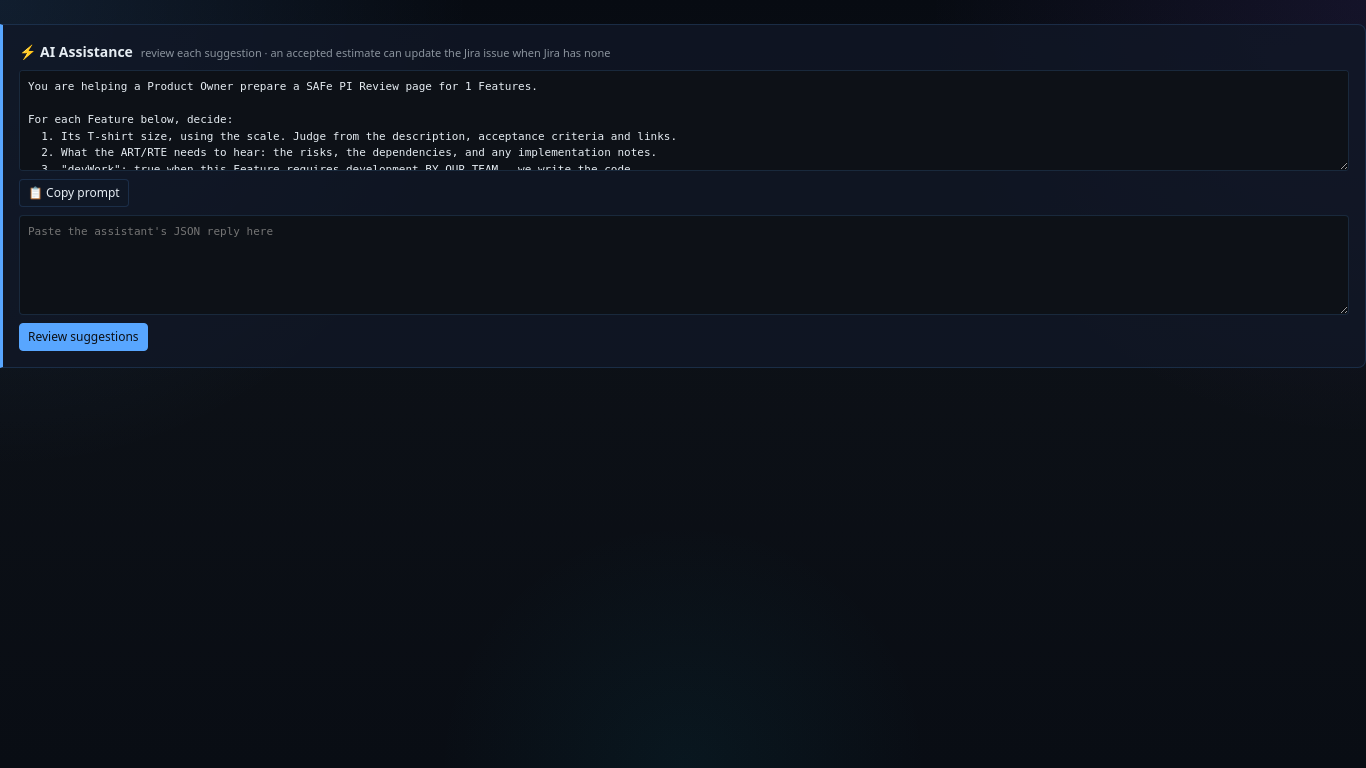
Test: PiReviewAiPanel — the two paths › surfaces a malformed reply as an error without corrupting anything
The image size is (1366, 768).
Type "I could not size these, sorry." into the text box with placeholder "Paste the assistant's JSON reply here". click: (684,265)
box: [19,214,1349,315]
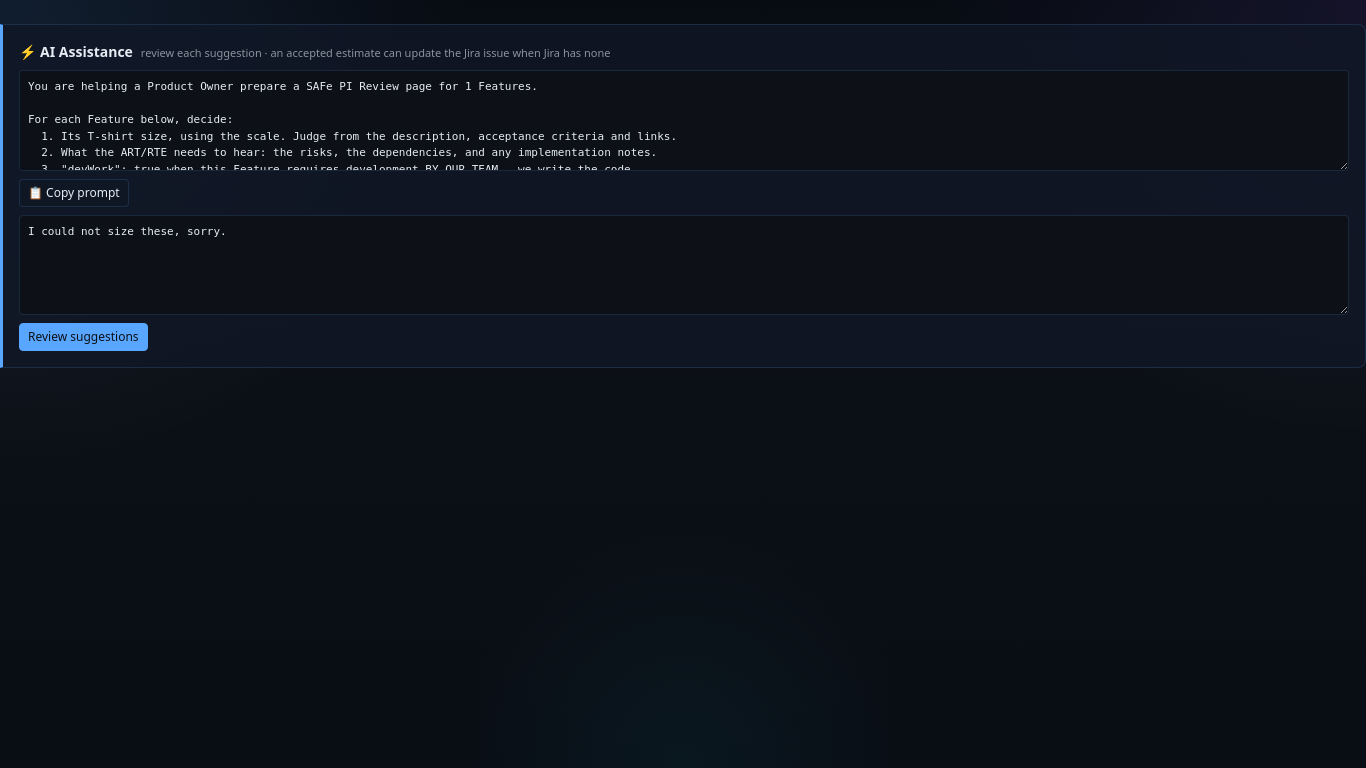
Click the button "Review suggestions". click: (83,337)
box: [19,323,148,351]
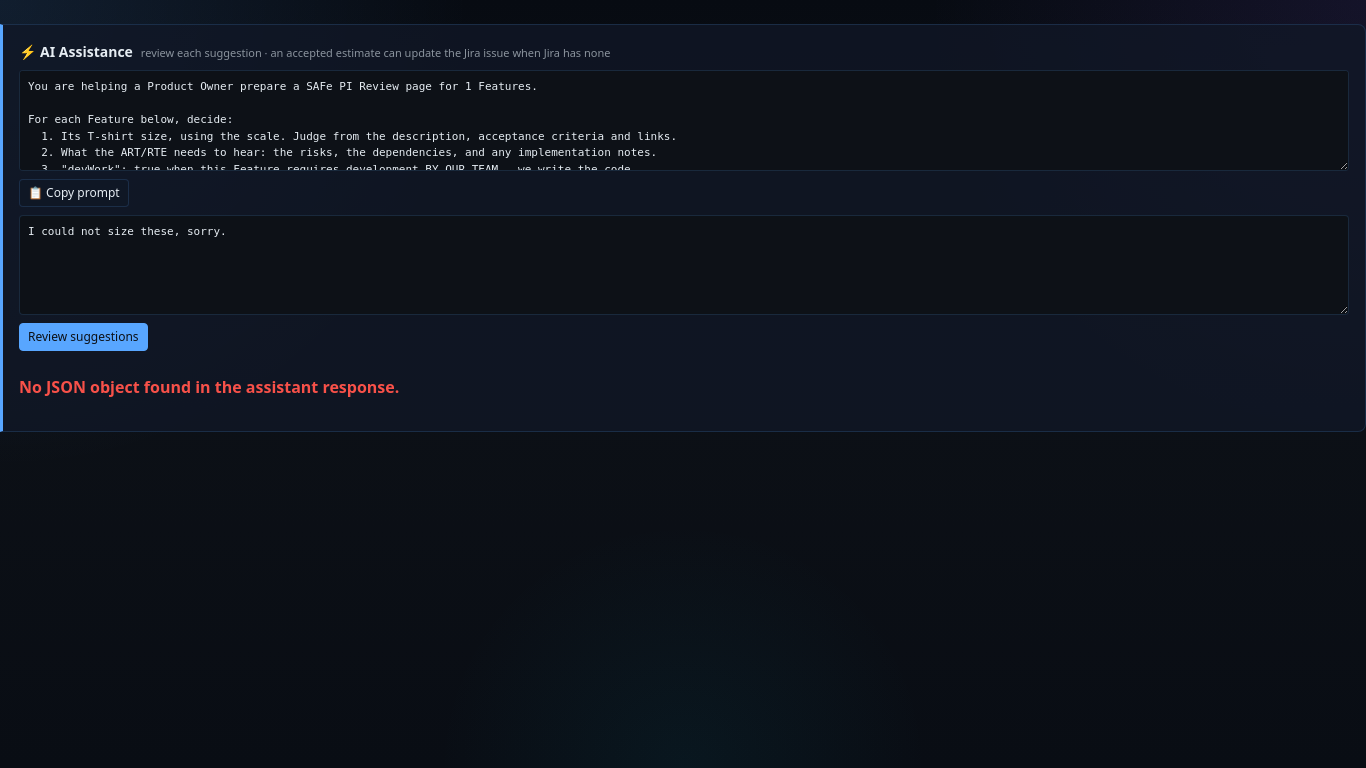
Check: the message shows "No JSON object", box [19,376,399,398]
